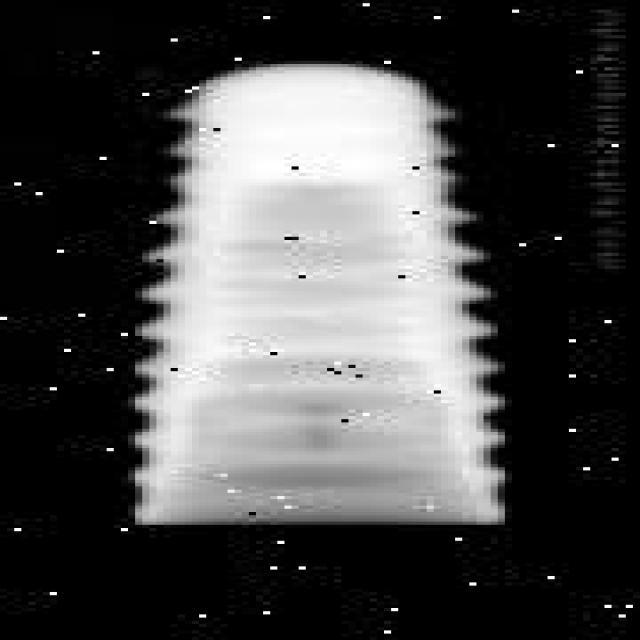Titan Implant Implant: (127, 58, 505, 525)
